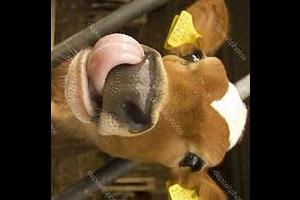cow: (51, 0, 250, 200)
